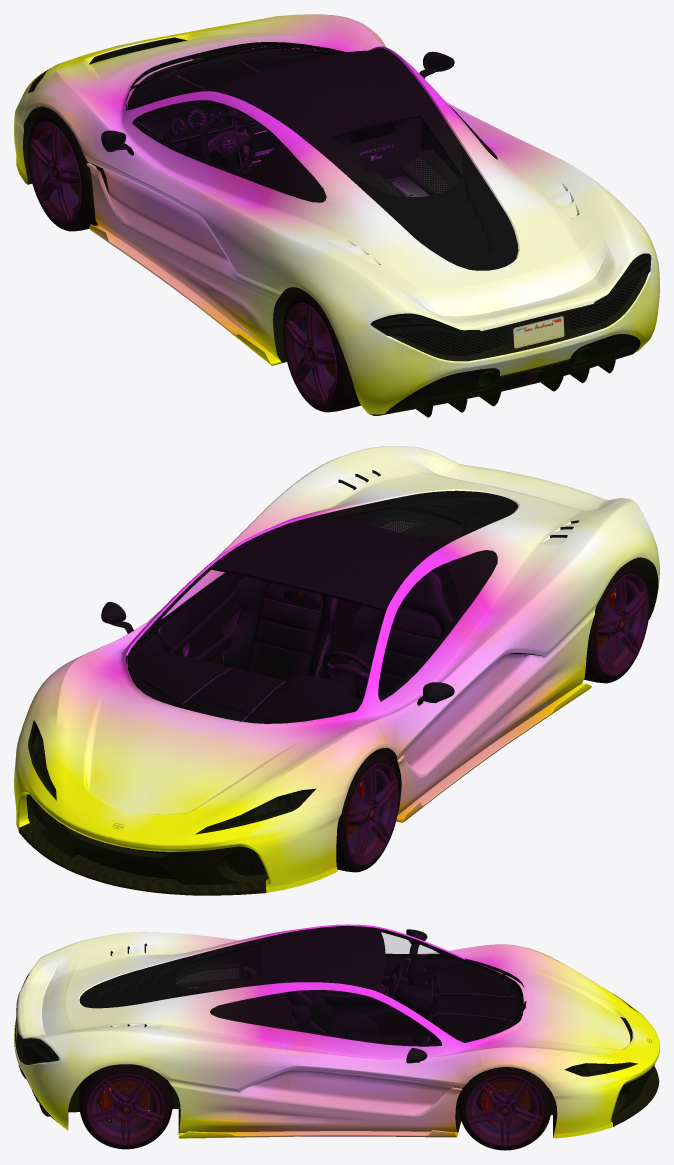
The picture shows the model from 3 angles, top to bottom: view 1: azimuth 30°, elevation 25°; view 2: azimuth 150°, elevation 25°; view 3: azimuth 270°, elevation 25°; orthographic projection. The views are drawn at different scales.
Parts seen in each view (by area): view 1: bodyshell, door_dside_f, chassis, bonnet, spoiler, windscreen_r, wheel_lf, window_lf, wheel_lr, door_pside_f, steeringwheel, misc_c (+1 smaller); view 2: bodyshell, chassis, door_dside_f, door_pside_f, wheel_lf, wheel_lr, window_lf, bonnet, spoiler, windscreen_r, misc_b, steeringwheel; view 3: bodyshell, door_pside_f, chassis, wheel_rr, wheel_rf, window_rf, door_dside_f, bonnet, spoiler, windscreen_r, misc_b, window_lf (+1 smaller).
Part boxes in pixels (x1,y1,x2,y2): bodyshell: (14, 14, 659, 415); door_dside_f: (70, 91, 302, 304); chassis: (23, 45, 462, 362); bonnet: (304, 107, 518, 270); spoiler: (395, 234, 614, 323); windscreen_r: (333, 117, 461, 196); wheel_lf: (27, 110, 97, 231); window_lf: (137, 102, 279, 173); wheel_lr: (283, 292, 360, 412); door_pside_f: (361, 38, 506, 142); steeringwheel: (200, 112, 256, 172); misc_c: (416, 356, 616, 417); bodyshell: (14, 446, 659, 895); chassis: (127, 509, 658, 810); door_dside_f: (354, 550, 515, 822); door_pside_f: (90, 517, 303, 665); wheel_lf: (336, 751, 399, 872); wheel_lr: (584, 562, 649, 683); window_lf: (380, 567, 458, 696); bonnet: (304, 490, 517, 550); spoiler: (396, 455, 614, 511); windscreen_r: (337, 508, 460, 539); misc_b: (496, 683, 591, 746); steeringwheel: (322, 651, 370, 697); bodyshell: (14, 926, 659, 1138); door_pside_f: (270, 982, 483, 1137); chassis: (68, 928, 557, 1136); wheel_rr: (79, 1064, 172, 1149); wheel_rf: (458, 1067, 552, 1150); window_rf: (282, 992, 439, 1043); door_dside_f: (270, 924, 478, 1035); bonnet: (79, 936, 270, 1008); spoiler: (23, 955, 78, 1036); windscreen_r: (175, 944, 261, 989); misc_b: (178, 1131, 301, 1138); window_lf: (382, 933, 439, 954).
Bounding box in the file's own units: 2.12 × 1.15 × 4.53.
21 materials, 19 textured.
